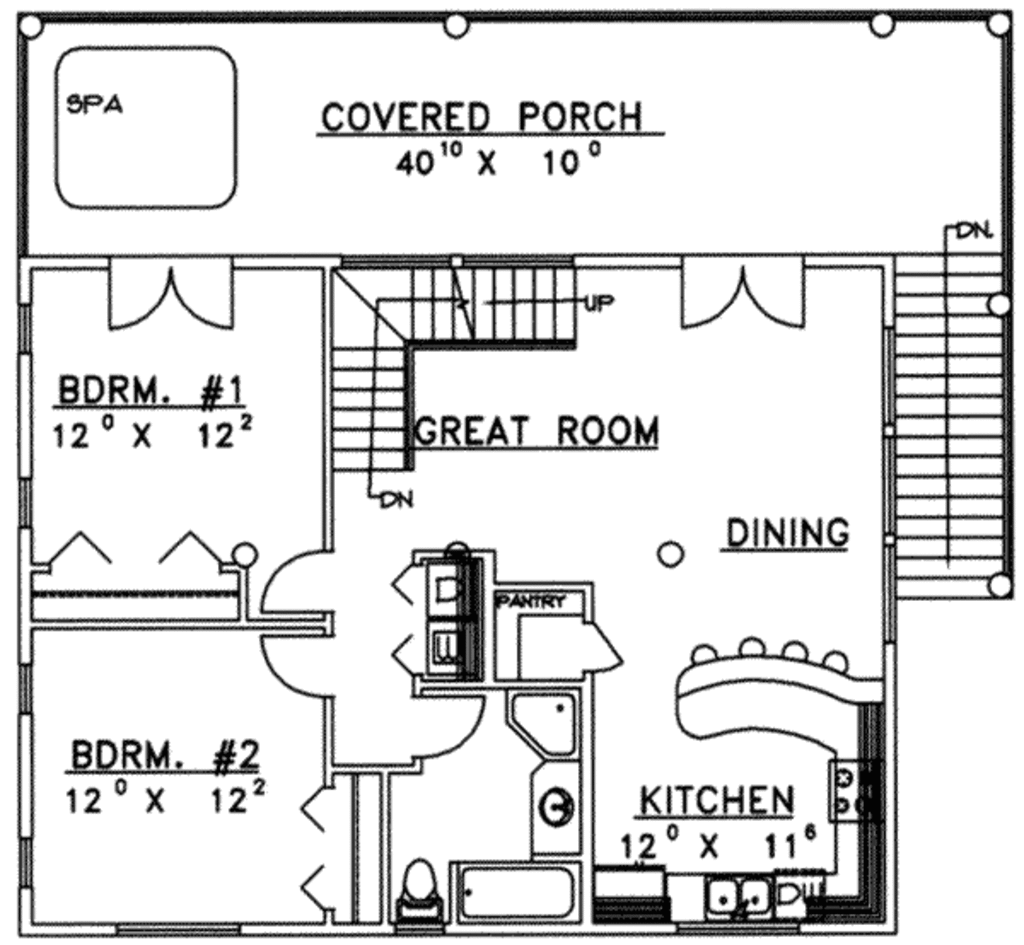door: (96, 243, 235, 340), (675, 255, 811, 330), (249, 550, 339, 618), (256, 635, 346, 700), (415, 692, 488, 763)
large_sink: (389, 849, 448, 933)
small_sink: (518, 759, 593, 862)
stairs: (335, 268, 588, 485), (886, 250, 1021, 608)
tub: (456, 860, 585, 930)
twin_sink: (706, 873, 781, 932)
window: (119, 919, 246, 942), (13, 836, 35, 895), (18, 659, 33, 718), (15, 478, 33, 525), (18, 308, 29, 353)
